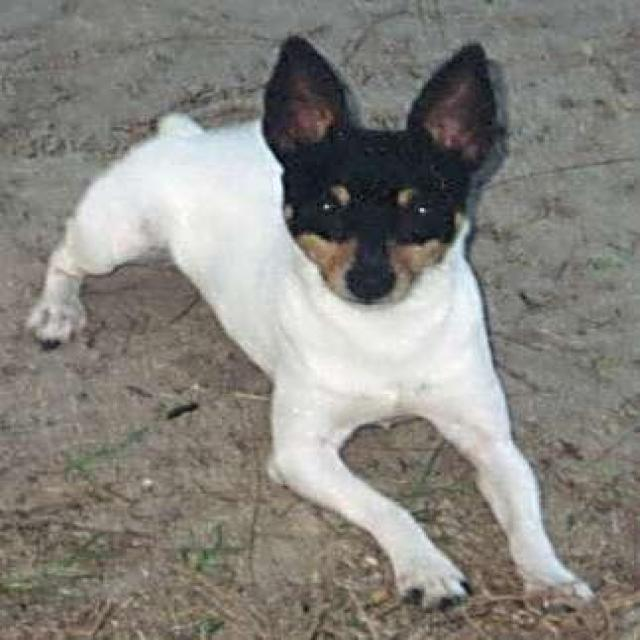toy_terrier: (26, 37, 594, 608)
